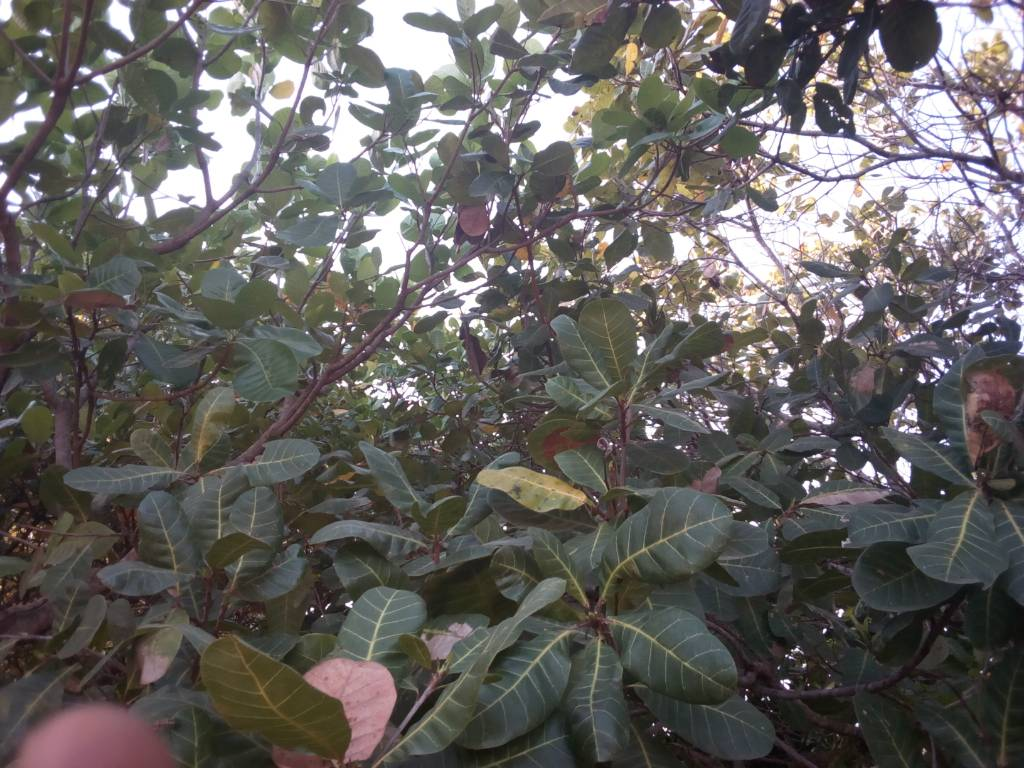Helopeltis anacardii: (573, 636, 623, 762), (97, 562, 200, 596), (200, 534, 267, 570)
